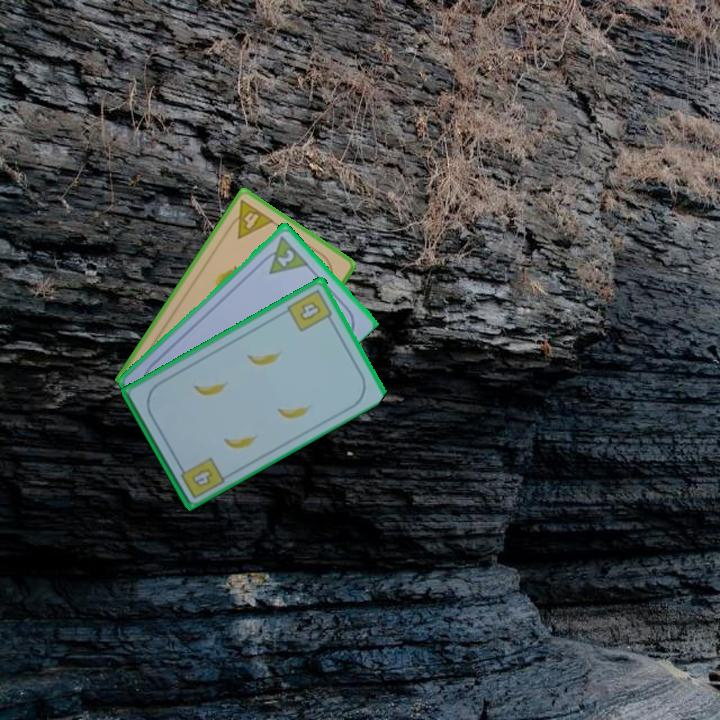2p: (273, 245, 297, 269)
4b: (284, 285, 336, 334), (174, 453, 227, 501)
4p: (223, 196, 277, 242)
